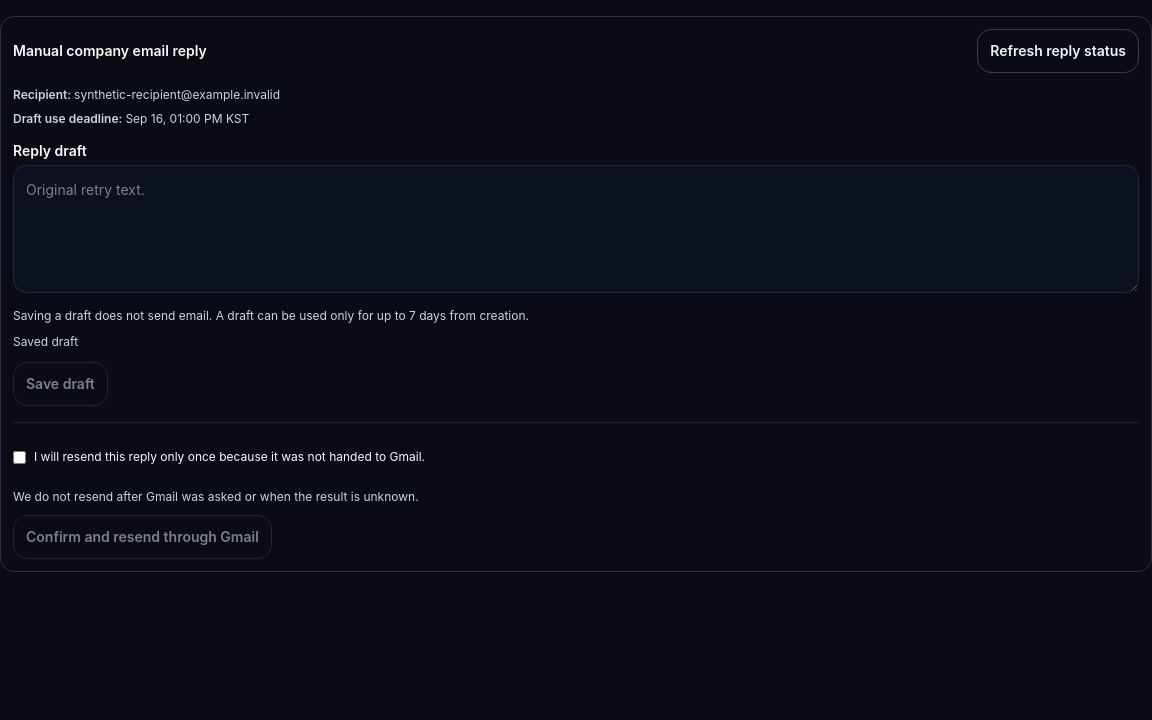
Test: manual company email reply › permits exactly the server-authorized pre-send retry after a new confirmation
The image size is (1152, 720).
Click the checkbox labelled "I will resend this reply only once because it was not handed to Gmail." at coordinates (20, 457), box [13,450,26,464]
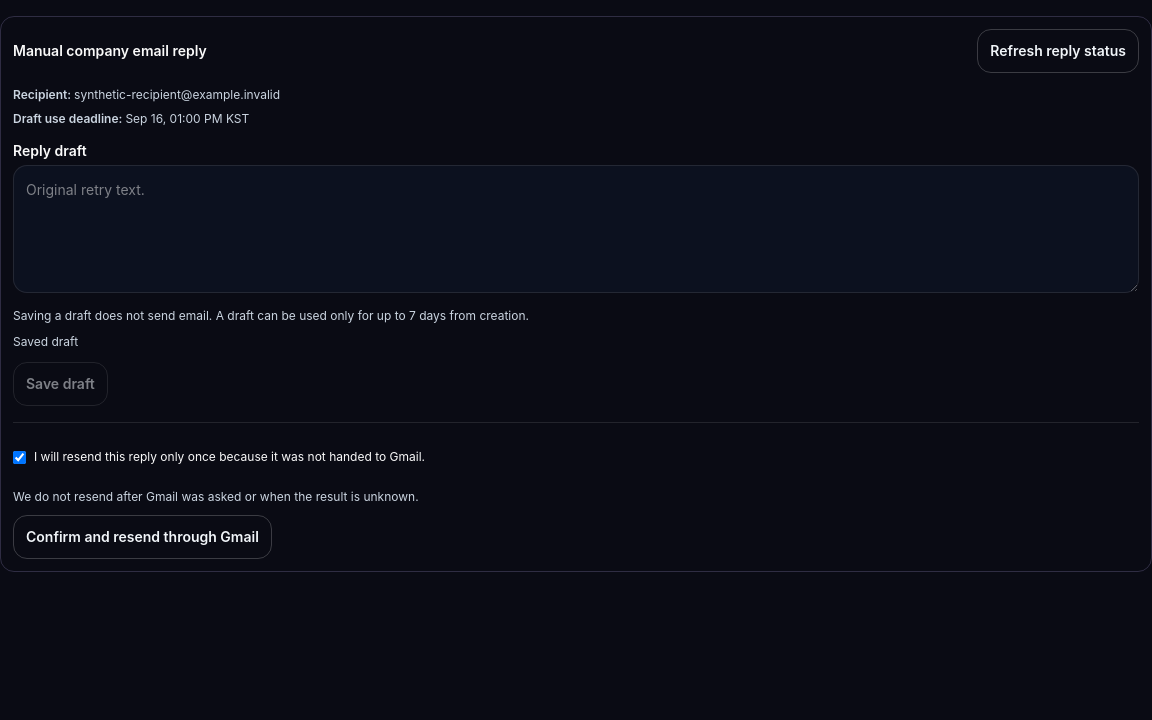
Click the button "Confirm and resend through Gmail" at coordinates (142, 537), box [13,515,272,559]
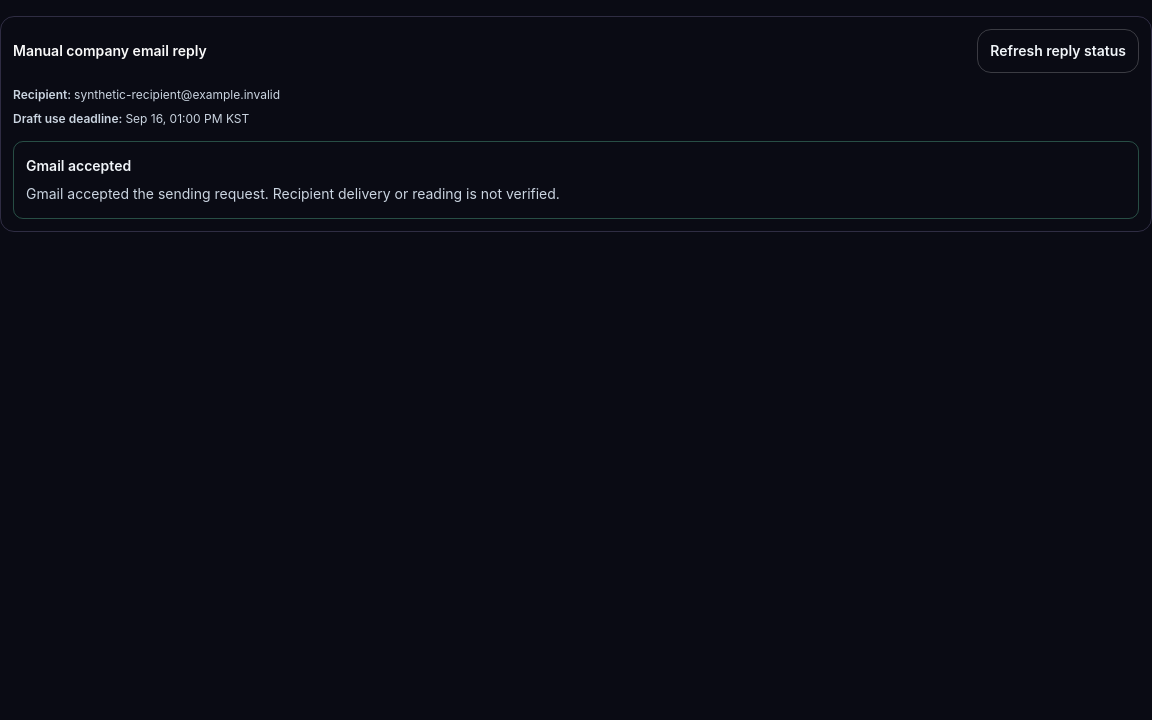
Check: the text "Gmail accepted" is shown, box [26,157,131,174]
